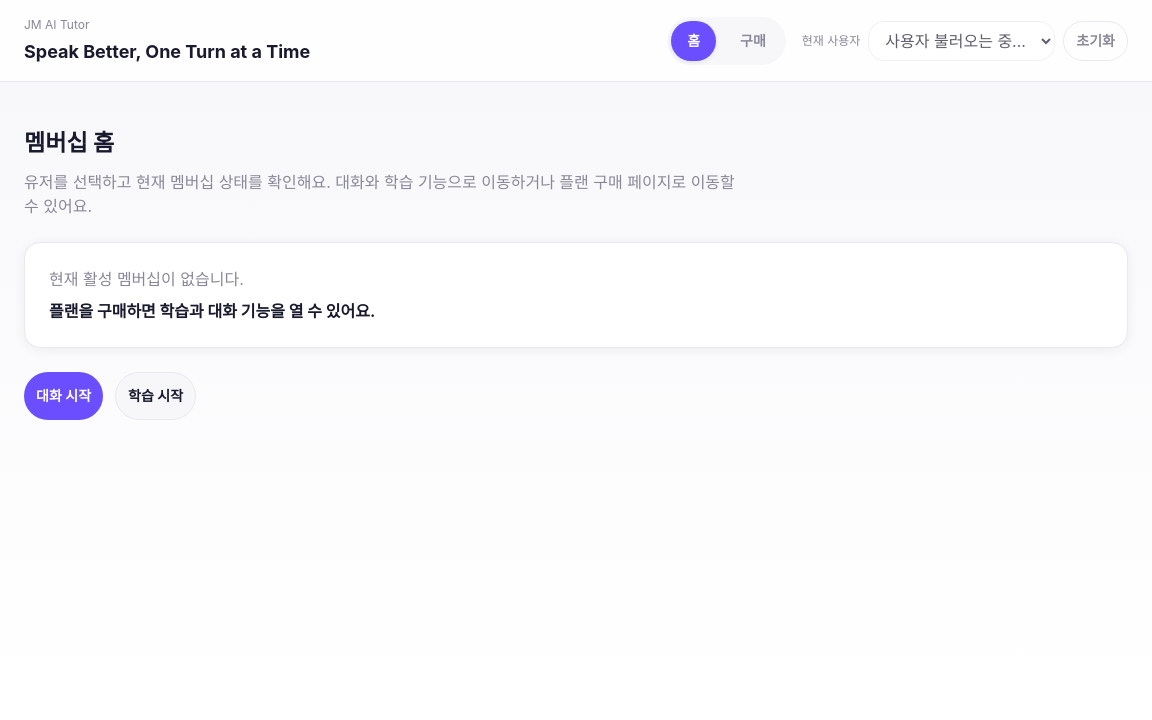
it: HomePage › 멤버십 없이 '대화 시작' 클릭 시 UpgradePromptModal이 열려요
Click the button "대화 시작": (64,396) [24,372,103,420]
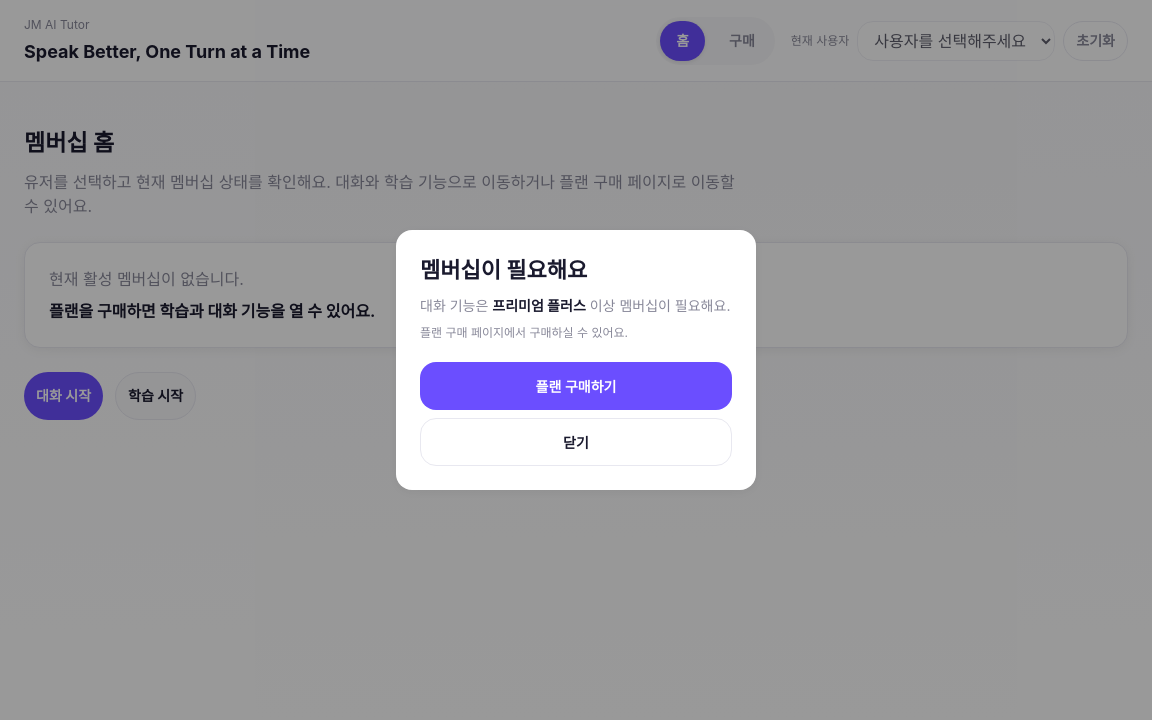
Expected: the heading "멤버십이 필요해요" is shown, [420,257,587,283]
